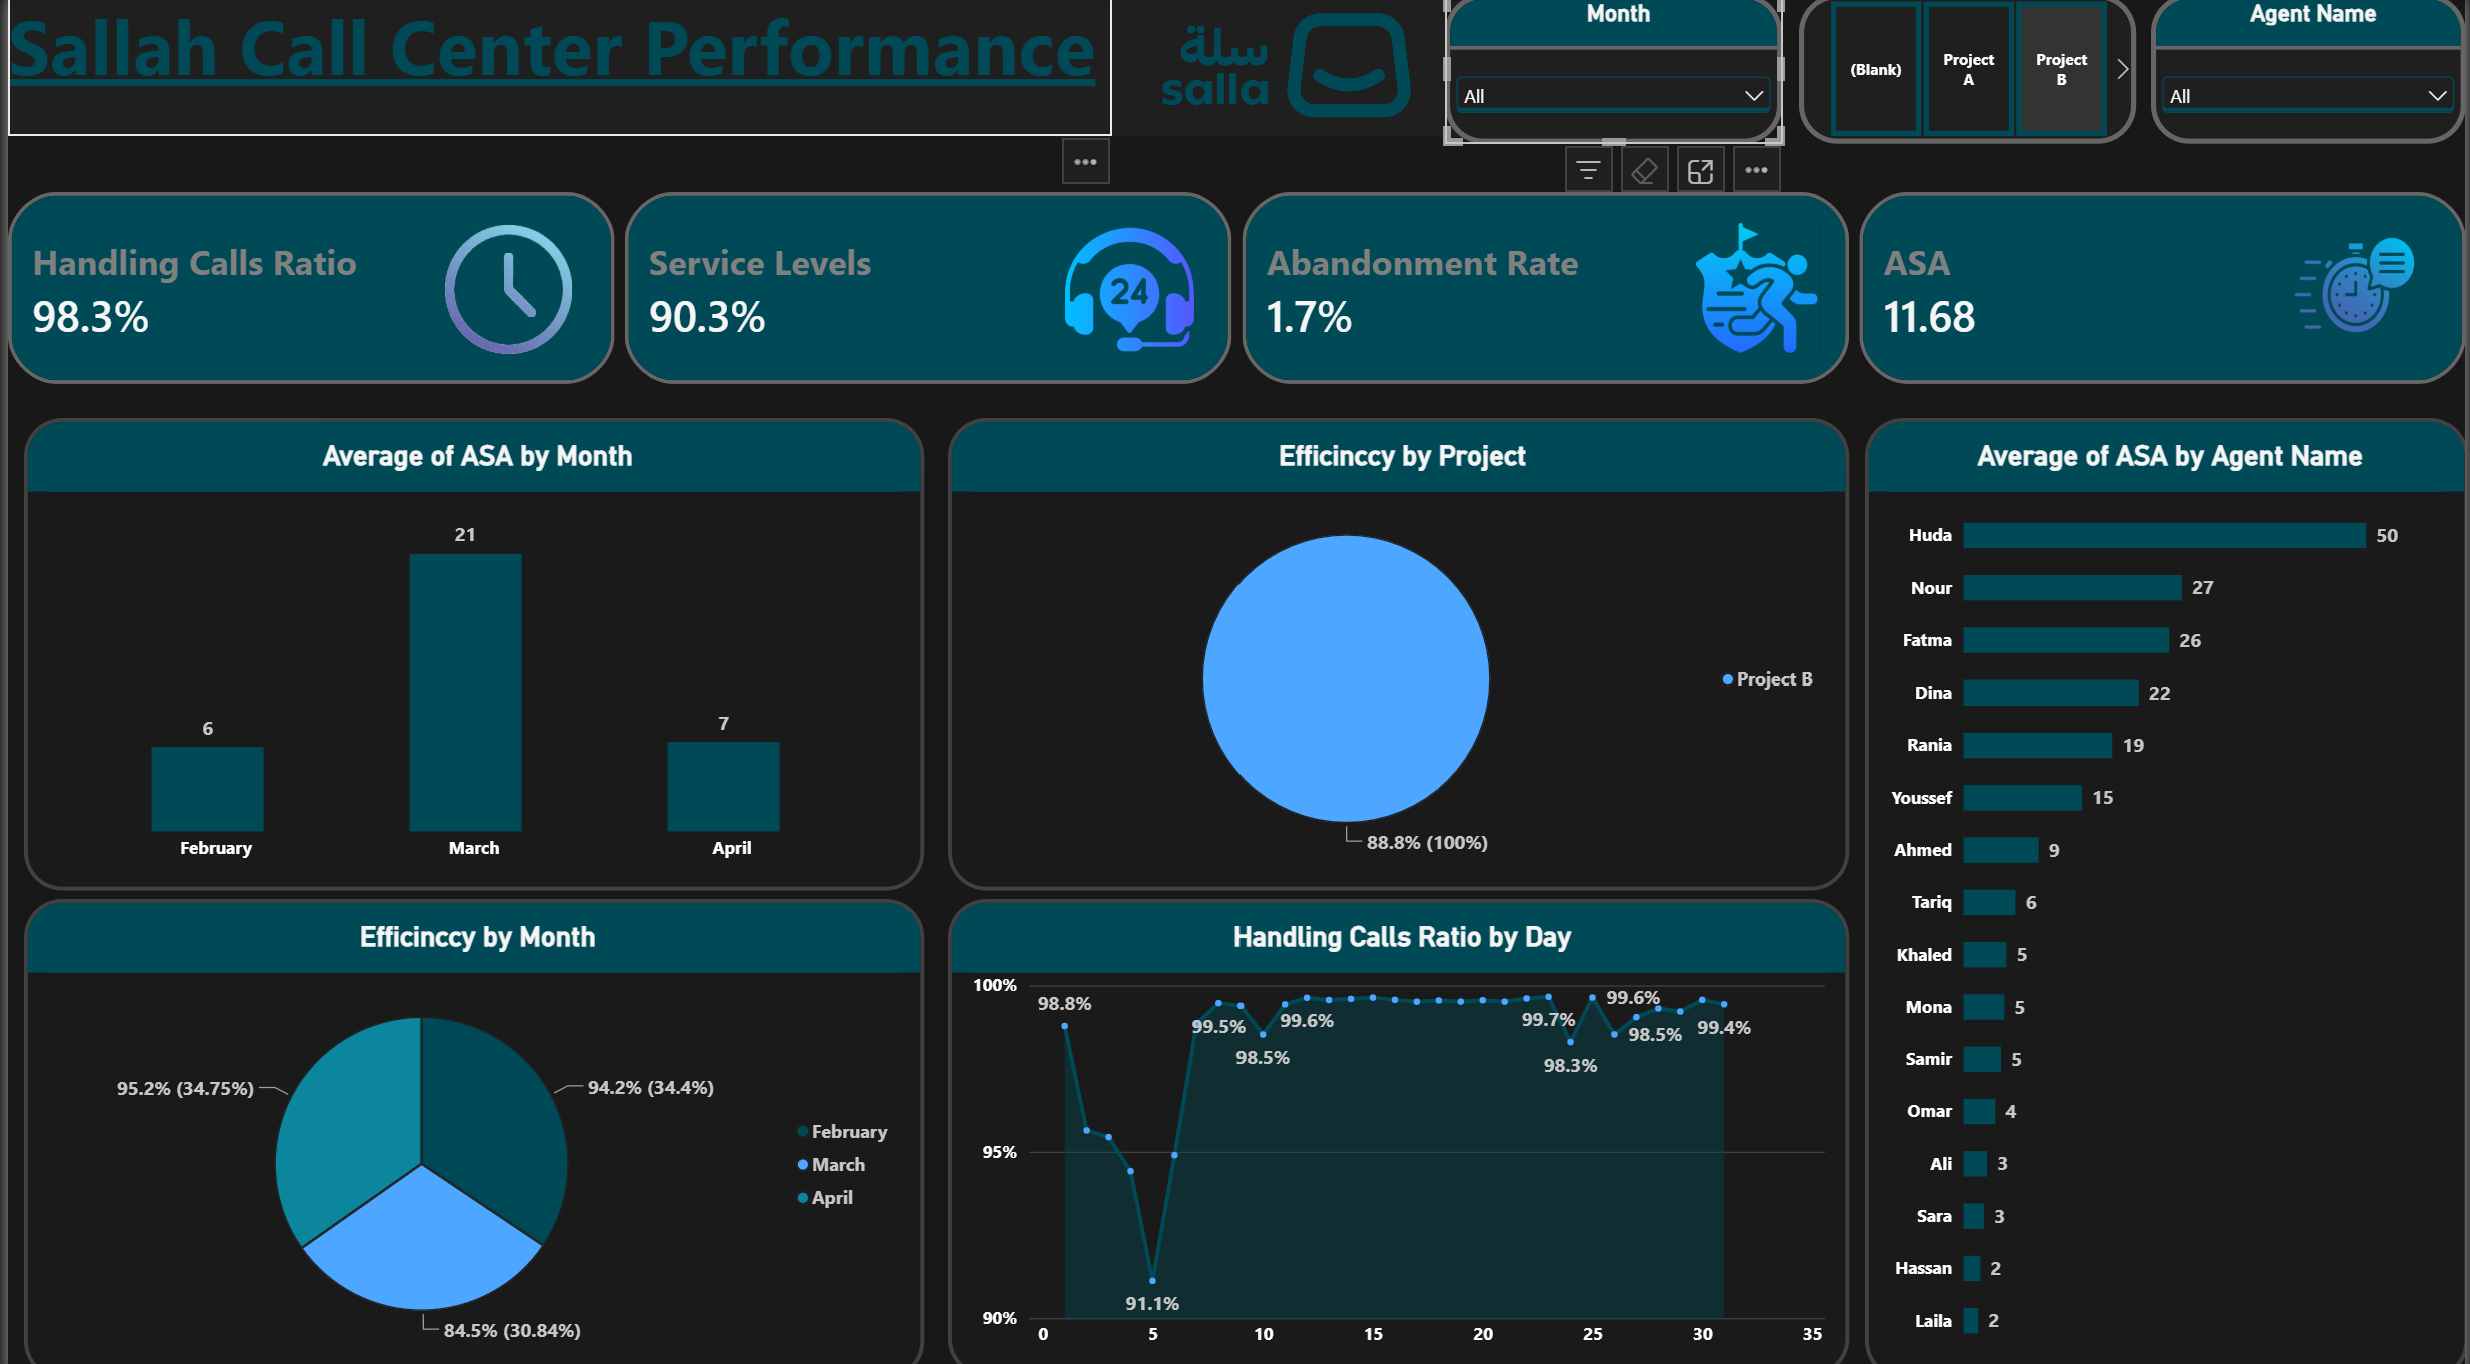

The page's visual inventory and layout, read from the dashboard file:
{"tool":"powerbi","page":{"name":"Over view","canvas":[1920,1080],"ordinal":0},"visuals":[{"type":"image","box":[862.3,0,272.3,111.7],"z":0},{"type":"textbox","box":[0,0,862.3,111.7],"z":1000},{"type":"cardVisual","fields":{"Data":["salla.Handling Calls Ratio","salla.Servis Levels","salla.Abd Rate","Avg(salla.ASA)"]},"box":[0,155.3,1920,150.1],"z":2000},{"type":"columnChart","fields":{"Category":["salla.Date.Variation.Date Hierarchy.Month","salla.Day Name"],"Y":["Avg(salla.ASA)"]},"box":[12.2,331.6,703.4,368.3],"z":3000},{"type":"pieChart","fields":{"Category":["salla.Project"],"Y":["salla.Efficinccy"]},"box":[734.8,331.6,703.4,368.3],"z":4000},{"type":"pieChart","fields":{"Category":["salla.Date.Variation.Date Hierarchy.Month"],"Y":["salla.Efficinccy"]},"box":[12.2,706.9,703.4,375.3],"z":5000},{"type":"barChart","fields":{"Category":["salla.Agent Name"],"Y":["Avg(salla.ASA)"]},"box":[1450.5,331.6,471.3,750.5],"z":6000},{"type":"areaChart","fields":{"Category":["salla.Date.Variation.Date Hierarchy.Day"],"Y":["salla.Handling Calls Ratio"]},"box":[734.8,706.9,703.4,373.5],"z":7000},{"type":"slicer","title":"Month","fields":{"Values":["salla.Date.Variation.Date Hierarchy.Month"]},"box":[1122.3,0,263.6,116.9],"z":8000},{"type":"slicer","fields":{"Values":["salla.Project"]},"box":[1398.1,0,263.6,116.9],"z":9000},{"type":"slicer","title":"Agent Name","fields":{"Values":["salla.Agent Name"]},"box":[1673.9,0,246.1,116.9],"z":9001},{"type":"image","box":[335.1,172.8,113.5,115.2],"z":9002},{"type":"image","box":[818.6,172.8,115.2,115.2],"z":9003},{"type":"image","box":[1316.1,178,99.5,103],"z":9004},{"type":"image","box":[1785.6,172.8,96,108.2],"z":9005}]}

Visuals, with their boxes in screenshot pixels (x1, y1, x2, y2), scaled from the page's 1920x1080 canvas onto the 2470x1364 screenshot:
image: {"left": 1109, "top": 0, "right": 1460, "bottom": 141}
textbox: {"left": 0, "top": 0, "right": 1109, "bottom": 141}
cardVisual - salla.Handling Calls Ratio x salla.Servis Levels: {"left": 0, "top": 196, "right": 2469, "bottom": 386}
columnChart - salla.Date.Variation.Date Hierarchy.Month x salla.Day Name: {"left": 16, "top": 419, "right": 921, "bottom": 884}
pieChart - salla.Project x salla.Efficinccy: {"left": 945, "top": 419, "right": 1850, "bottom": 884}
pieChart - salla.Date.Variation.Date Hierarchy.Month x salla.Efficinccy: {"left": 16, "top": 893, "right": 921, "bottom": 1363}
barChart - salla.Agent Name x Avg(salla.ASA): {"left": 1866, "top": 419, "right": 2469, "bottom": 1363}
areaChart - salla.Date.Variation.Date Hierarchy.Day x salla.Handling Calls Ratio: {"left": 945, "top": 893, "right": 1850, "bottom": 1363}
"Month" slicer: {"left": 1444, "top": 0, "right": 1783, "bottom": 148}
slicer - salla.Project: {"left": 1799, "top": 0, "right": 2138, "bottom": 148}
"Agent Name" slicer: {"left": 2153, "top": 0, "right": 2469, "bottom": 148}
image: {"left": 431, "top": 218, "right": 577, "bottom": 364}
image: {"left": 1053, "top": 218, "right": 1201, "bottom": 364}
image: {"left": 1693, "top": 225, "right": 1821, "bottom": 355}
image: {"left": 2297, "top": 218, "right": 2421, "bottom": 355}
